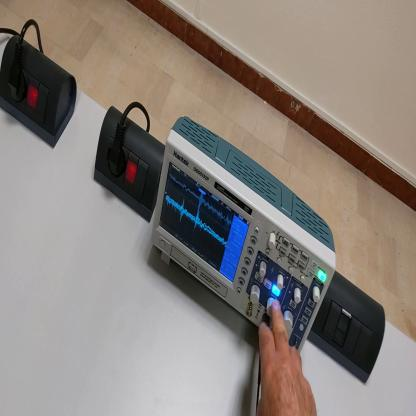hand: (258, 300, 317, 414)
oscilloscope: (152, 116, 338, 354)
socket: (94, 105, 168, 226), (2, 35, 78, 150)
